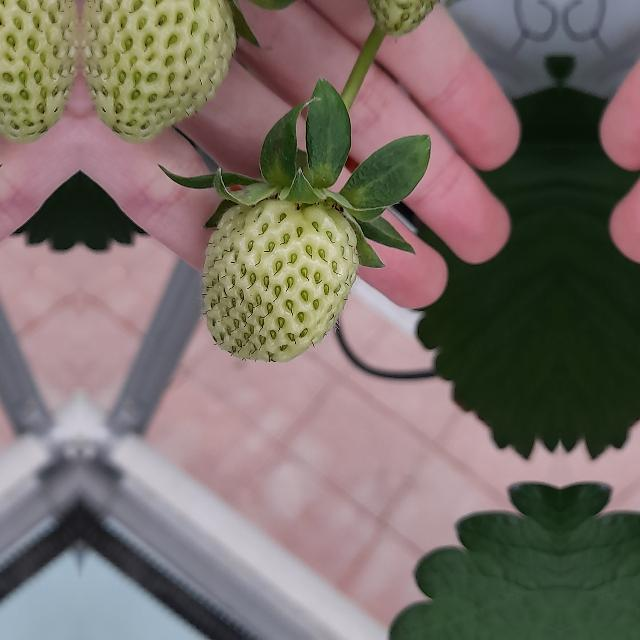Health_25: (201, 199, 359, 363), (80, 0, 240, 146), (0, 0, 80, 146)
